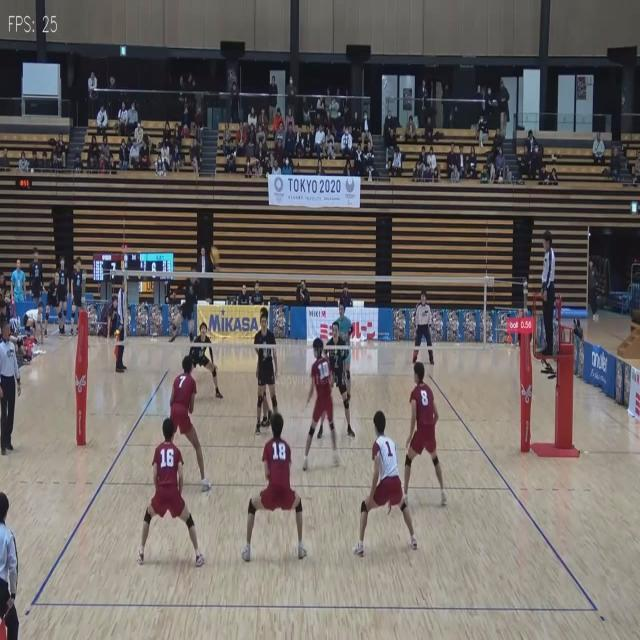volleyball: (209, 247, 220, 264)
